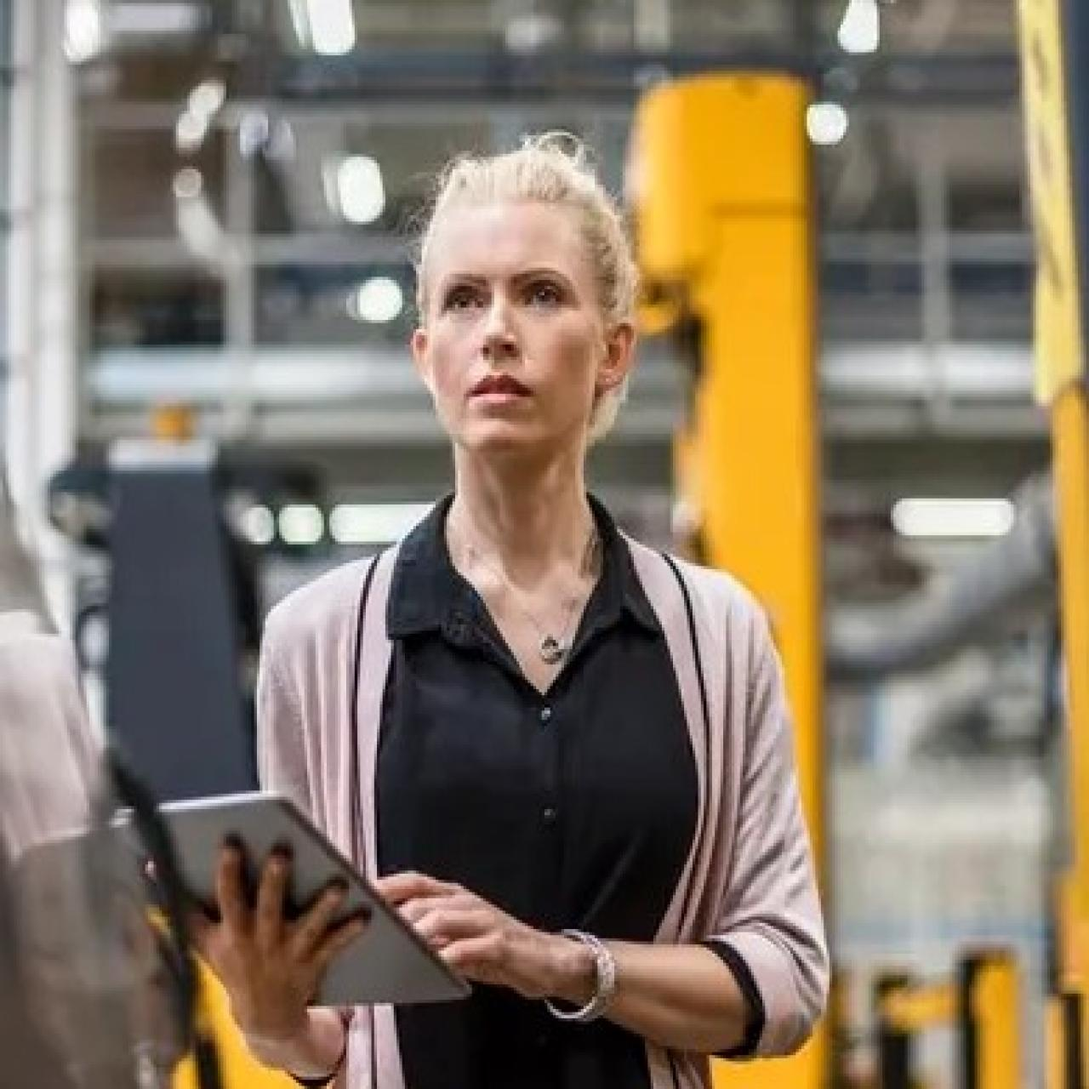NO_Safety_Vest: (293, 522, 732, 1089)
Person: (209, 126, 852, 1089)
